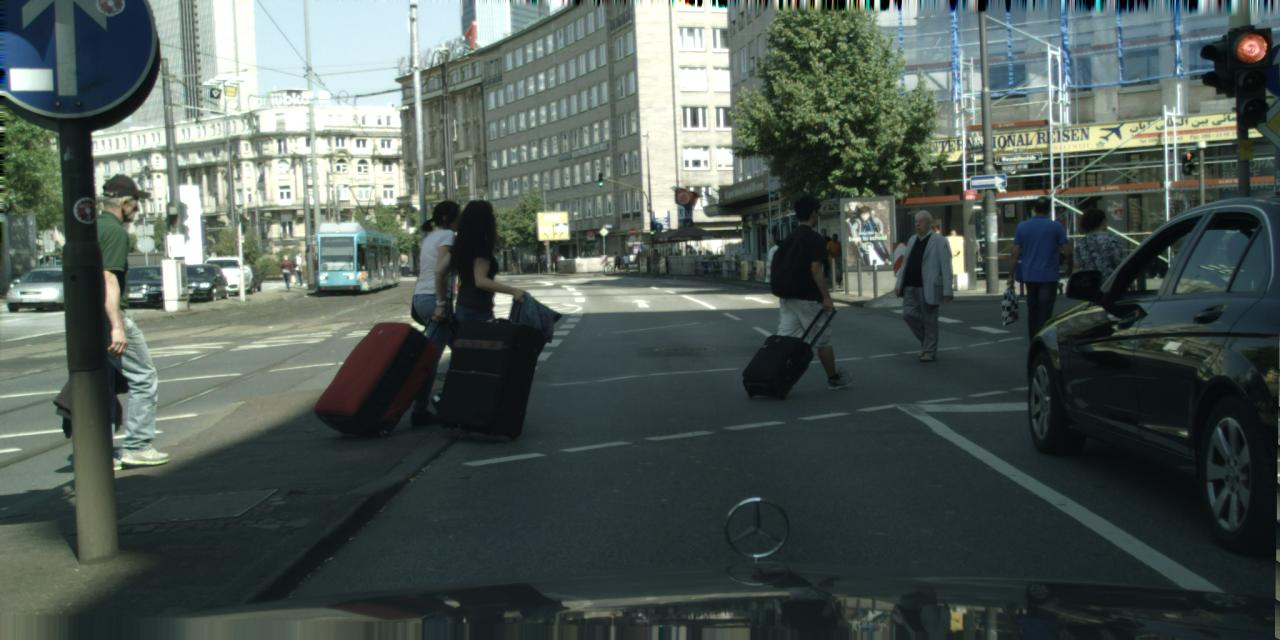ped: (58, 173, 180, 470), (430, 198, 526, 433), (396, 201, 488, 425), (767, 195, 845, 388), (1066, 206, 1136, 381), (1006, 194, 1076, 362), (894, 210, 956, 362), (1028, 224, 1058, 294), (926, 225, 948, 281), (812, 229, 834, 281), (944, 230, 965, 282), (770, 240, 790, 294), (824, 233, 845, 284), (278, 253, 294, 291), (292, 252, 305, 284), (650, 249, 661, 276), (634, 250, 644, 273), (612, 251, 620, 272), (549, 251, 557, 271), (622, 253, 630, 273), (557, 252, 564, 270), (540, 252, 546, 272)
